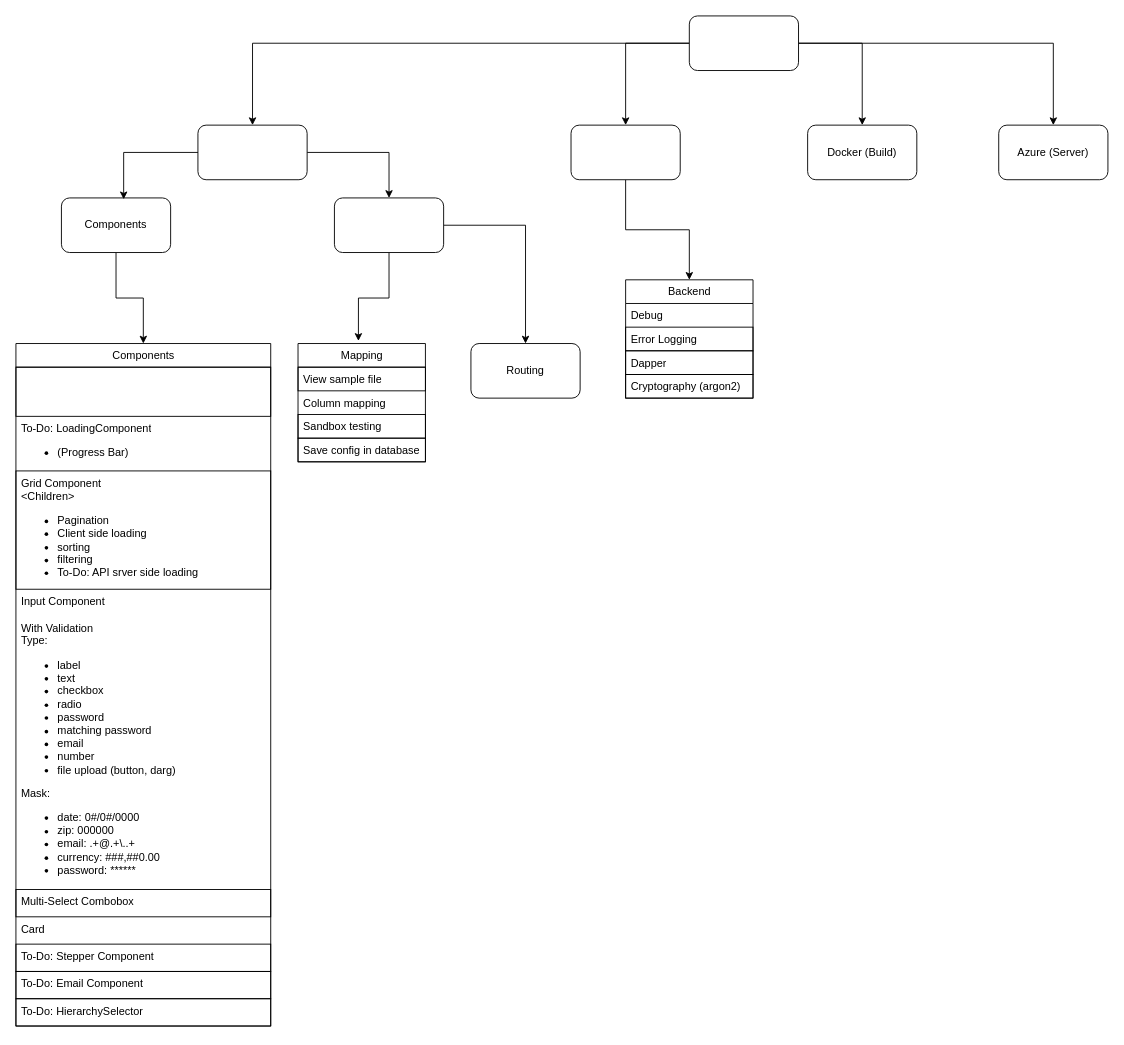
This 1124x1045 diagram has some shape labels left out. The centre of each missing label's shape, as x and y in pixels:
Bit Hub: the point at 743,43
Modal Component Draggable: the point at 143,391
NET 8 (Back) SQLite: the point at 625,152
React -TS (Front) React Router + Tailwind: the point at 252,152
Views: the point at 389,225
